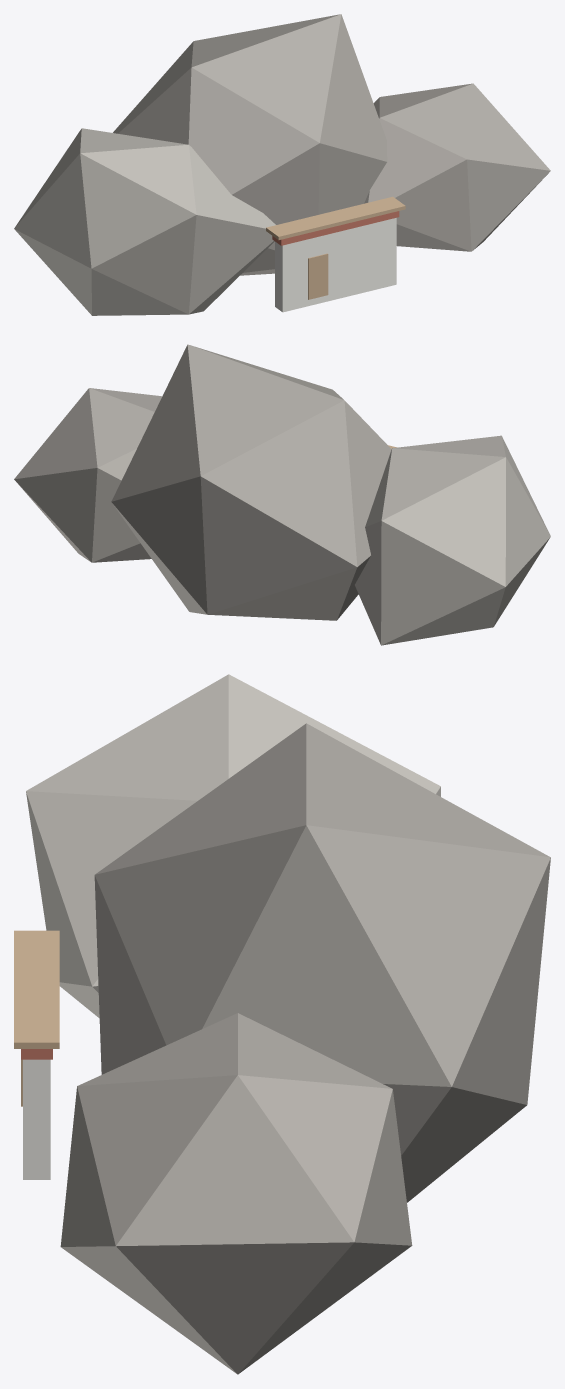
The picture shows the model from 3 angles, top to bottom: view 1: azimuth 30°, elevation 25°; view 2: azimuth 150°, elevation 25°; view 3: azimuth 270°, elevation 25°; orthographic projection. The views are drawn at different scales.
Visible parts, largest first — view 1: WB_cave; view 2: WB_cave; view 3: WB_cave.
Boxes of the visible parts, left/top/right/bottom form: WB_cave: left=14, top=14, right=550, bottom=315; WB_cave: left=14, top=344, right=550, bottom=645; WB_cave: left=14, top=674, right=550, bottom=1374.
Size of the model in its own units: 21.58 by 11.14 by 11.75.
